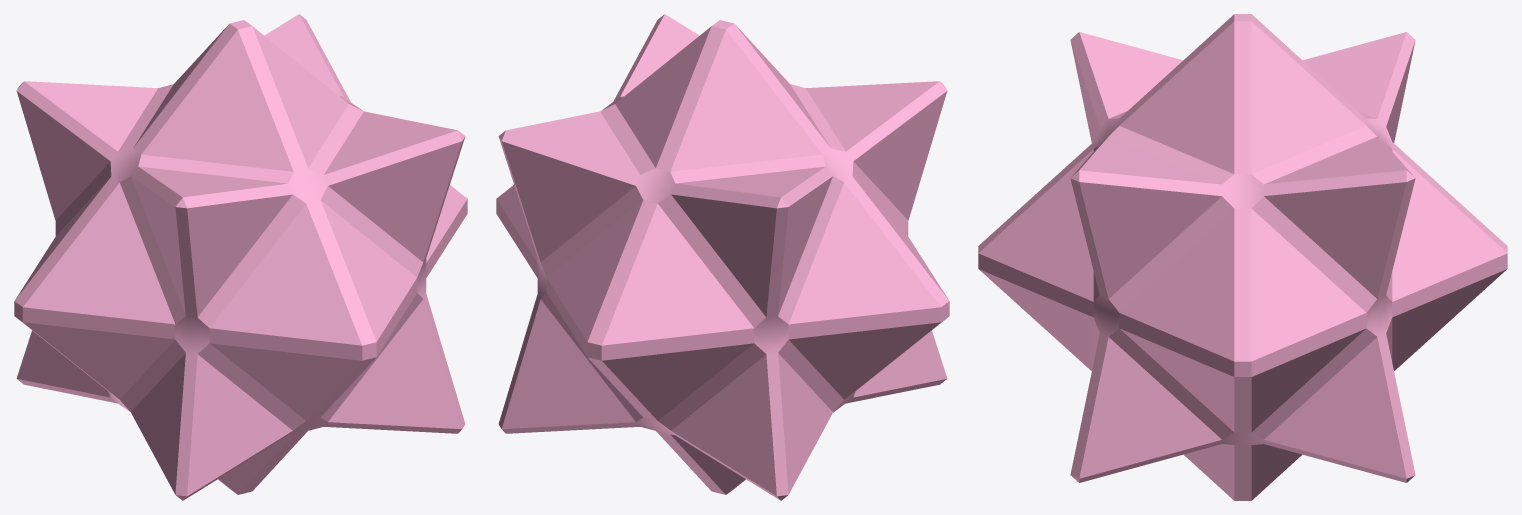
File: st2_starobj2.fbx
The picture shows the model from 3 angles, left to right: view 1: azimuth 30°, elevation 25°; view 2: azimuth 150°, elevation 25°; view 3: azimuth 270°, elevation 25°; orthographic projection. The views are drawn at different scales.
Visible parts, largest first — view 1: Cube_002; view 2: Cube_002; view 3: Cube_002.
Boxes of the visible parts, x1=… form: Cube_002: x1=14, y1=14, x2=467, y2=500; Cube_002: x1=496, y1=14, x2=949, y2=500; Cube_002: x1=978, y1=14, x2=1507, y2=500.
Bounding box in the file's own units: 141 × 141 × 141.
